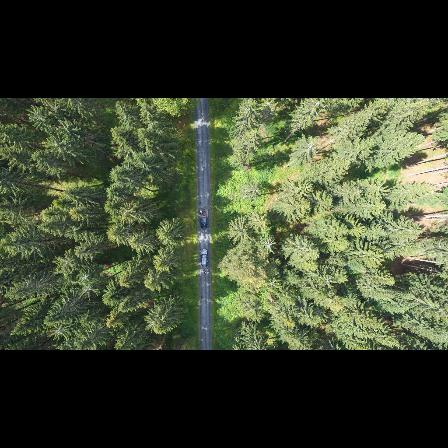Sick: (45, 318, 77, 342), (52, 252, 83, 273), (77, 282, 101, 301), (258, 235, 277, 258), (74, 269, 98, 285)
